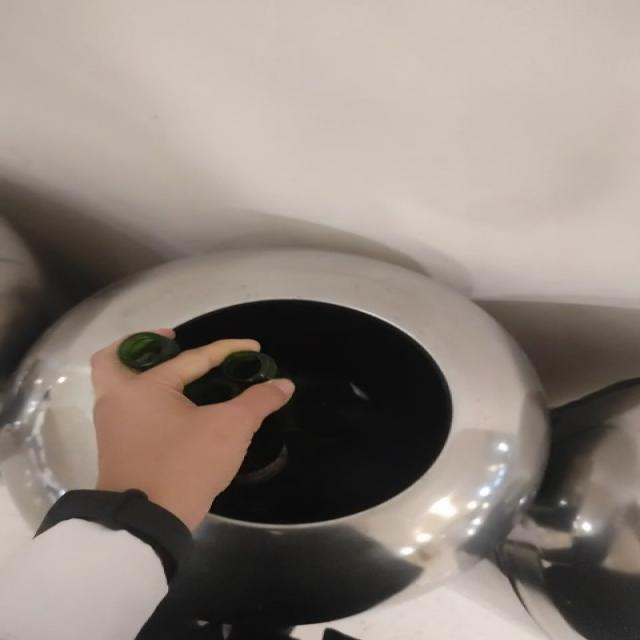glass: (235, 381, 372, 486), (183, 351, 277, 406), (117, 332, 180, 372)
